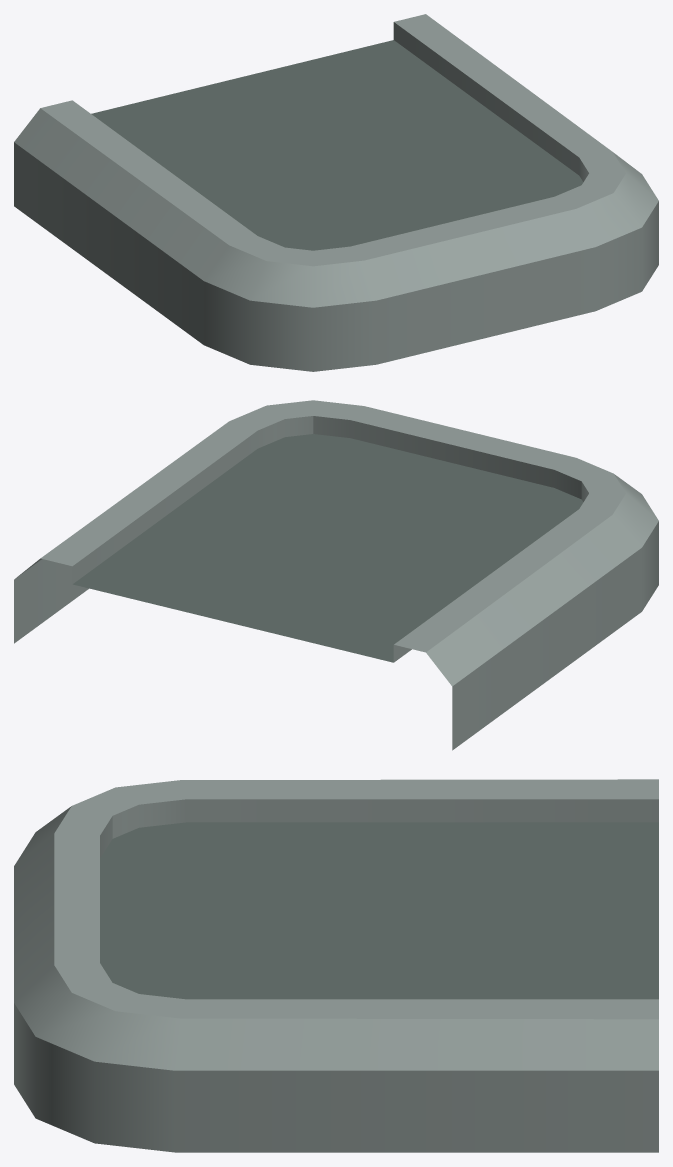
The model's file is PG_Divider_end.fbx.
The picture shows the model from 3 angles, top to bottom: view 1: azimuth 30°, elevation 25°; view 2: azimuth 150°, elevation 25°; view 3: azimuth 270°, elevation 25°; orthographic projection. The views are drawn at different scales.
Parts seen in each view (by area): view 1: PG_Walk_end; view 2: PG_Walk_end; view 3: PG_Walk_end.
Boxes of the visible parts, x1,y1,x2,y2 form: PG_Walk_end: (14, 14, 658, 371); PG_Walk_end: (14, 400, 658, 750); PG_Walk_end: (14, 779, 658, 1152).
Size of the model in its own units: 100 by 20 by 100.
